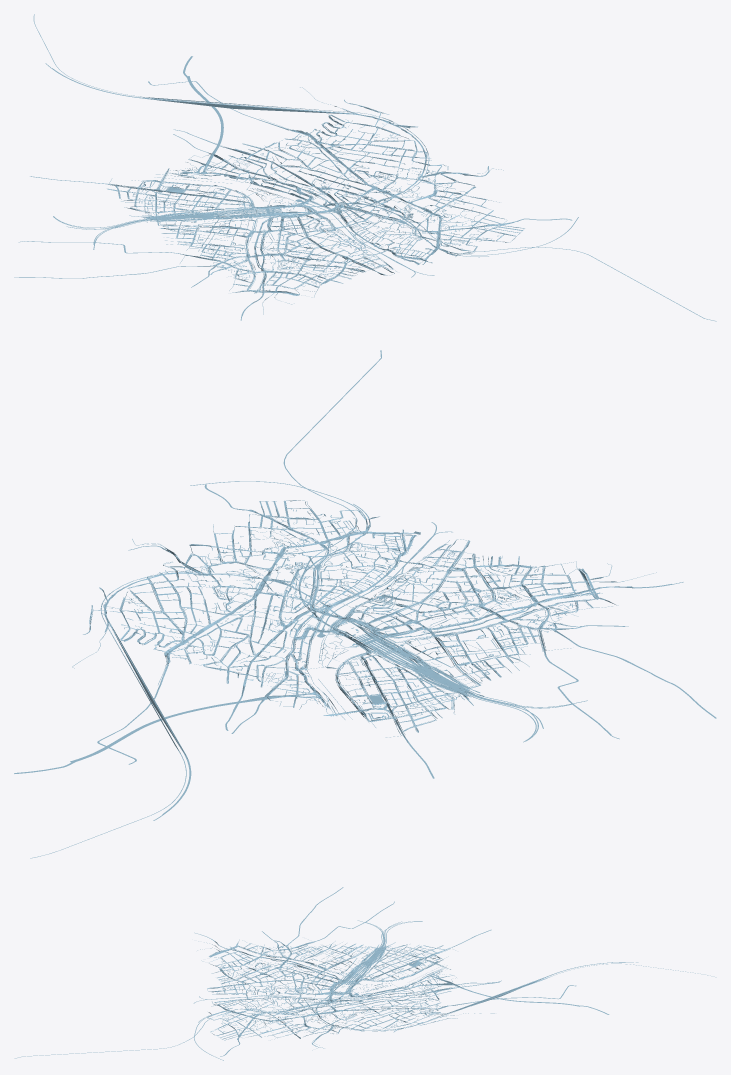
File: roads.glb
3 views of the same model, one above another, from view 1: azimuth 30°, elevation 25°; view 2: azimuth 150°, elevation 25°; view 3: azimuth 270°, elevation 25° (orthographic). The views are drawn at different scales.
Parts seen in each view (by area): view 1: roads; view 2: roads; view 3: roads.
Part boxes in pixels (x1,y1,x2,y2): roads: (14,14,716,321); roads: (14,350,716,858); roads: (14,887,716,1060).
Size of the model in its own units: 3836 by 182 by 6529.
